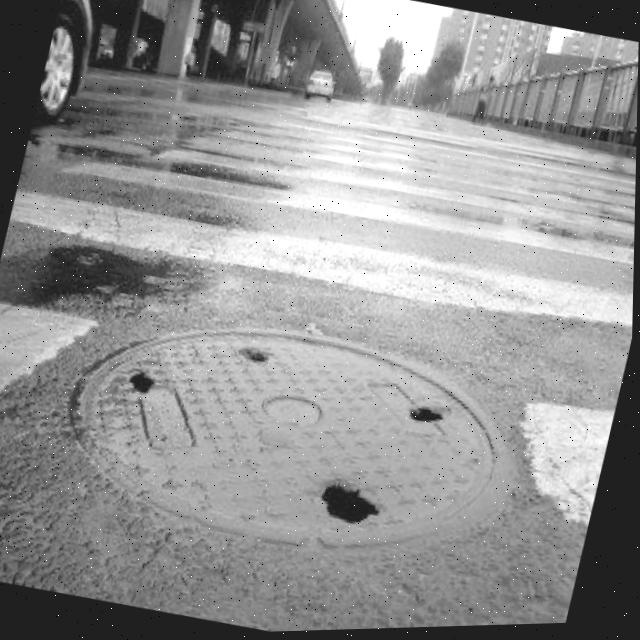manhole: (41, 265, 549, 598)
